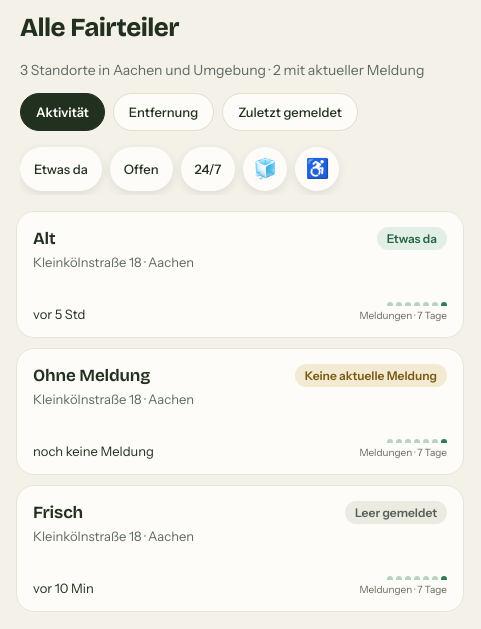
ListeView › sorts by last reported (nulls last) when that chip is selected
Click the button with test id "sort-lastReported" at (290, 112), box x1=222 y1=93 x2=358 y2=131
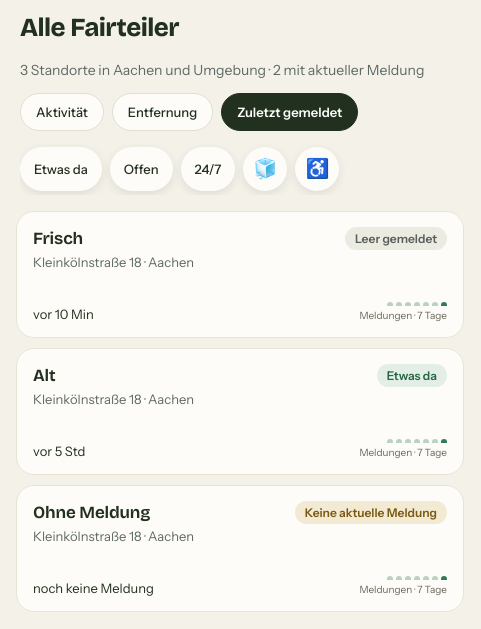
Expected: the elements with class "name" read "Frisch", "Alt", "Ohne Meldung", in this order, x1=33 y1=228 x2=83 y2=249; x1=33 y1=365 x2=55 y2=386; x1=33 y1=502 x2=150 y2=523
